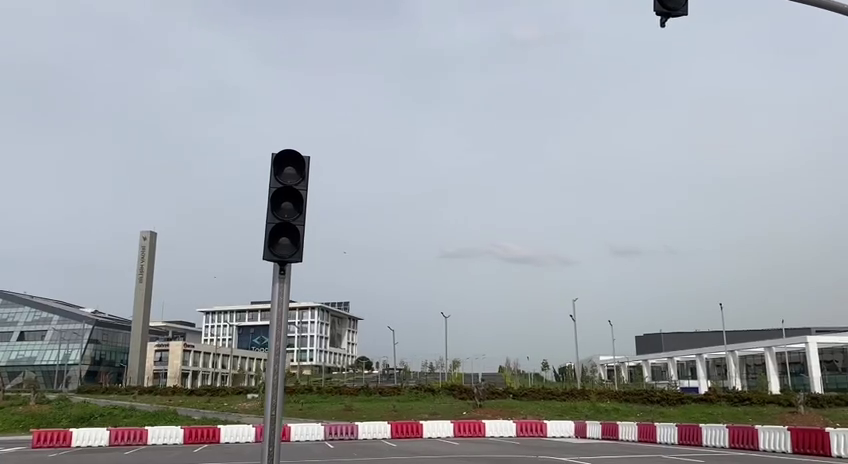trafficLight: (259, 143, 313, 267)
